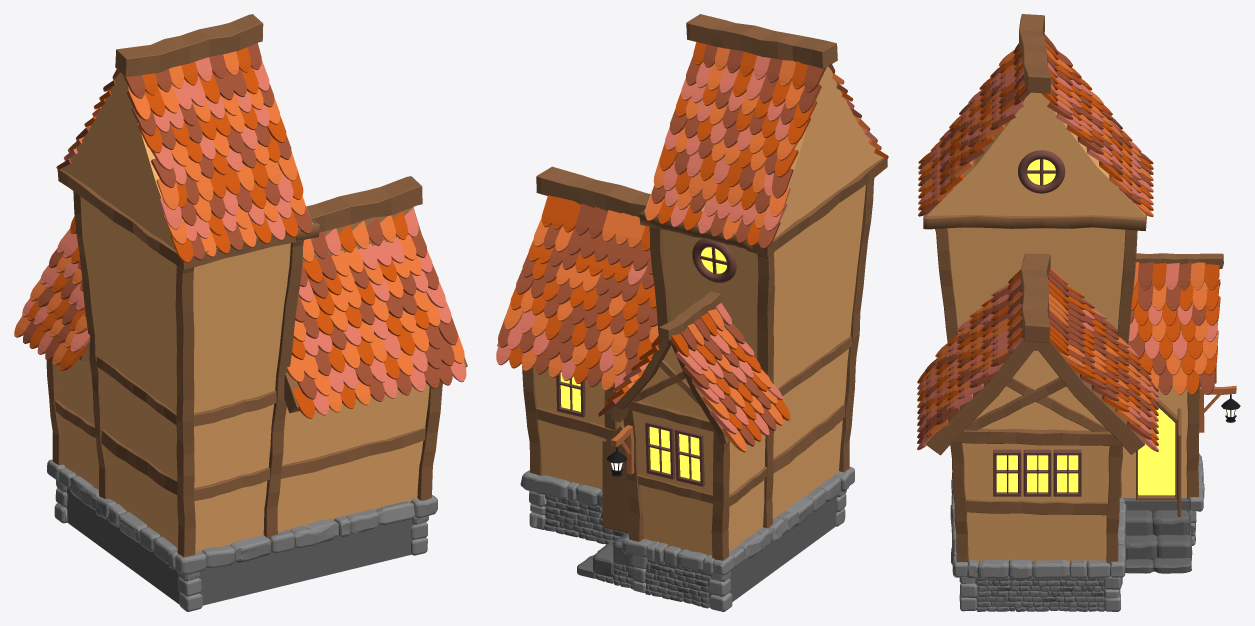
File: house1.glb
3 renders of one model, left to right at view 1: azimuth 30°, elevation 25°; view 2: azimuth 150°, elevation 25°; view 3: azimuth 270°, elevation 25°, orthographic. The views are drawn at different scales.
Visible parts, largest first — view 1: House1.001; view 2: House1.001; view 3: House1.001.
Boxes of the visible parts, bbox=[...] form: House1.001: bbox=[14, 14, 467, 611]; House1.001: bbox=[496, 14, 888, 611]; House1.001: bbox=[917, 14, 1240, 611].
Size of the model in its own units: 6.51 by 10.79 by 6.58.
